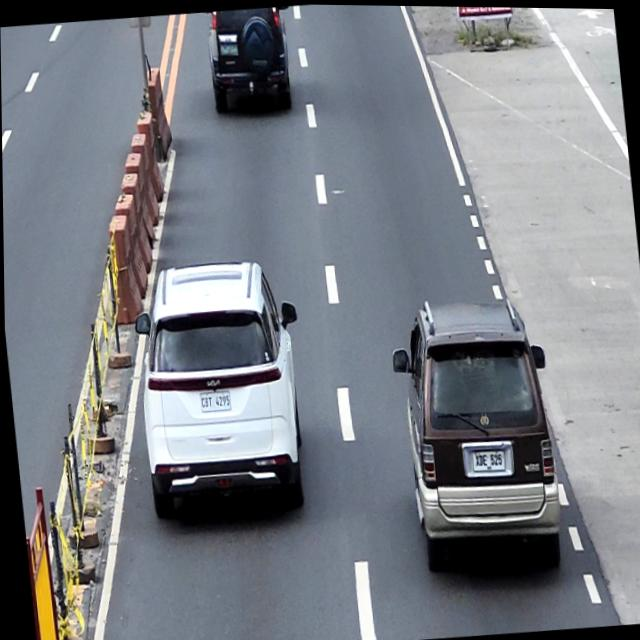Car: (384, 287, 566, 579), (126, 253, 315, 521), (204, 5, 294, 115)
License-Plate: (469, 444, 505, 474), (197, 388, 231, 413), (219, 41, 239, 57)
